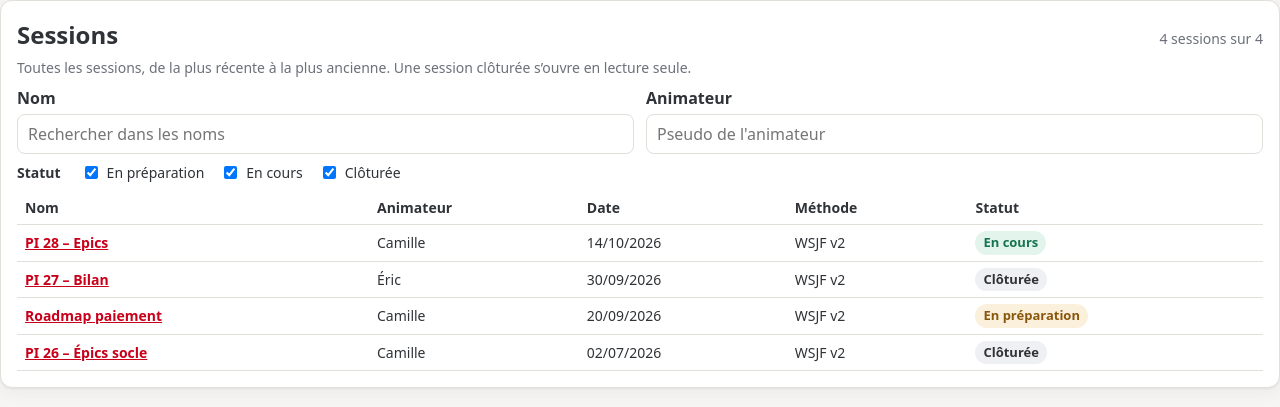
Test case: SessionListComponent › filters (FR-026b) › combines the three filters, and « Effacer les filtres » resets them all
Type "pi" into the search field with id "filter-name". click: (326, 134)
box: [17,114,634,154]
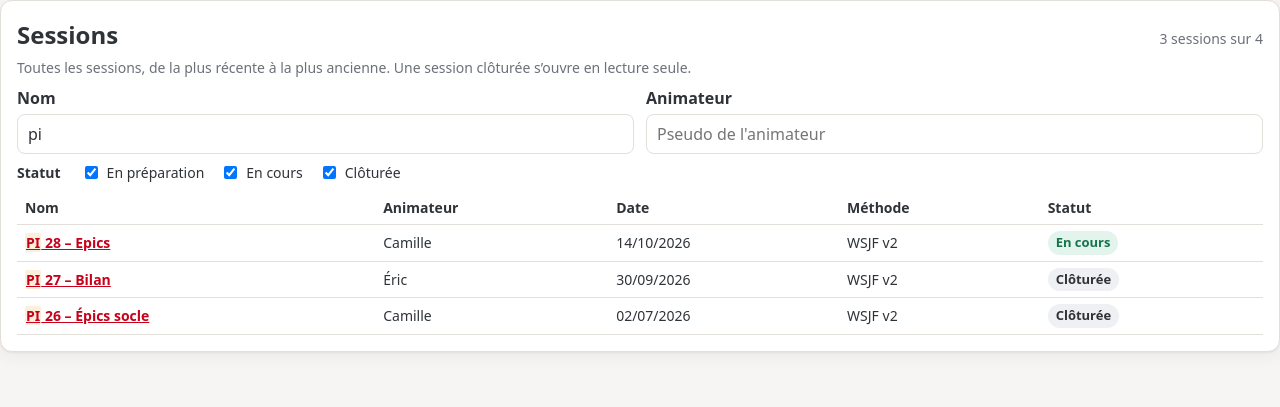
Type "camille" into the field with id "filter-facilitator". click: (954, 134)
box: [646,114,1263,154]
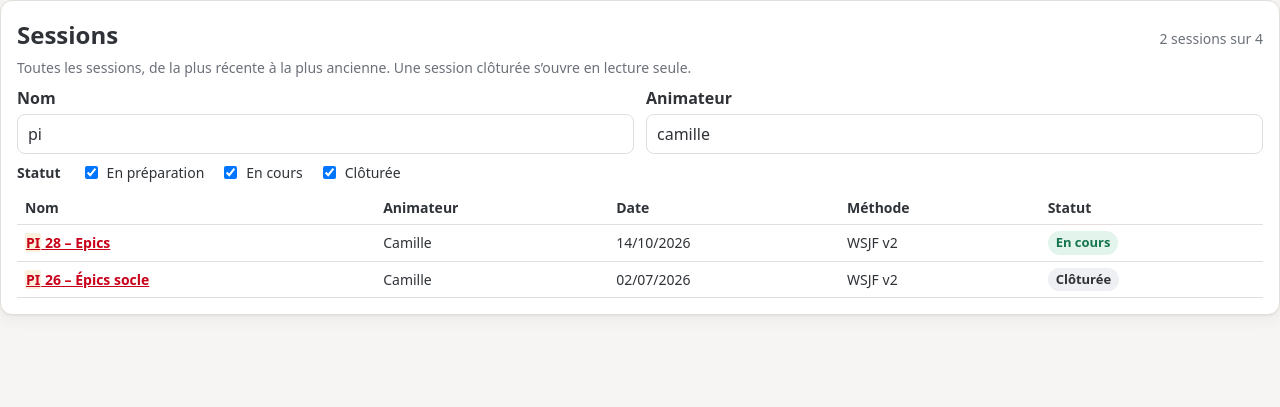
Click the checkbox labelled "En cours". click: click(231, 172)
box: [224,166,237,179]
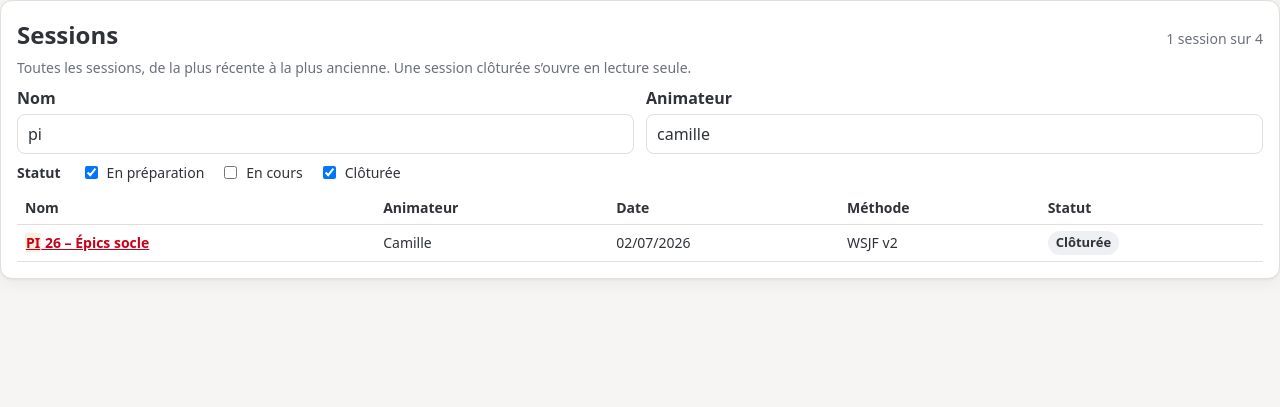
Replace the text in the search field with id "filter-name" with "bilan". click: (326, 134)
box: [17,114,634,154]
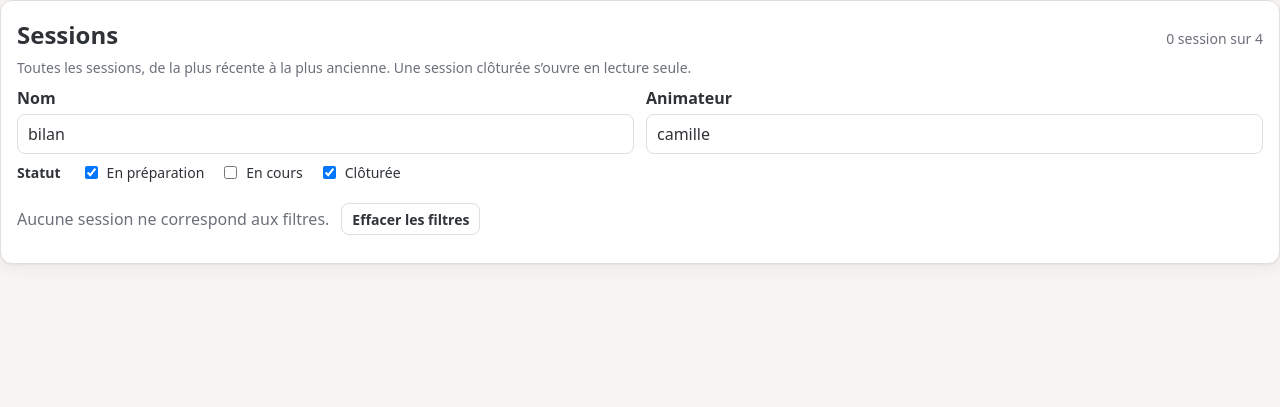
Click the button "Effacer les filtres". click: click(411, 219)
box: [341,203,480,235]
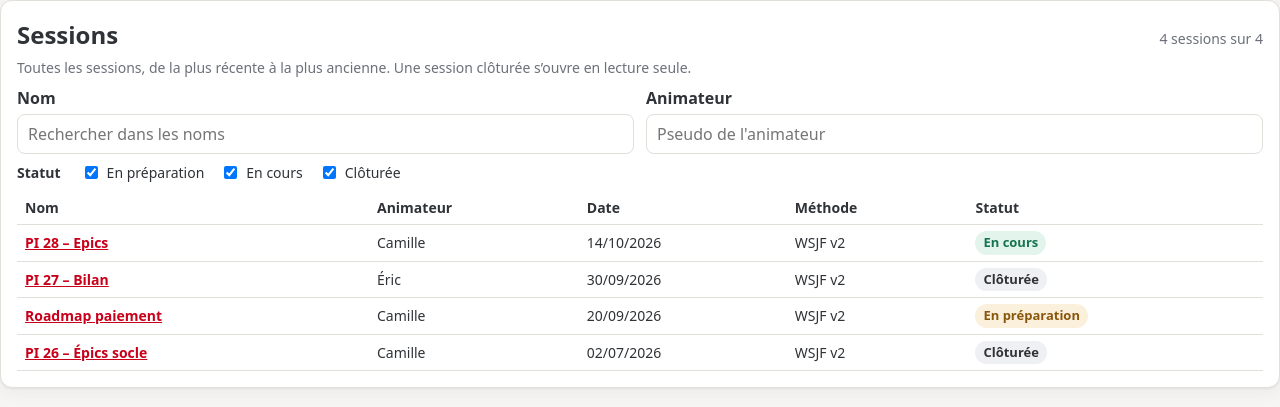
Check: the number of links is 4, box [25,233,108,252]; [25,270,109,289]; [25,306,162,325]; [25,343,147,362]
